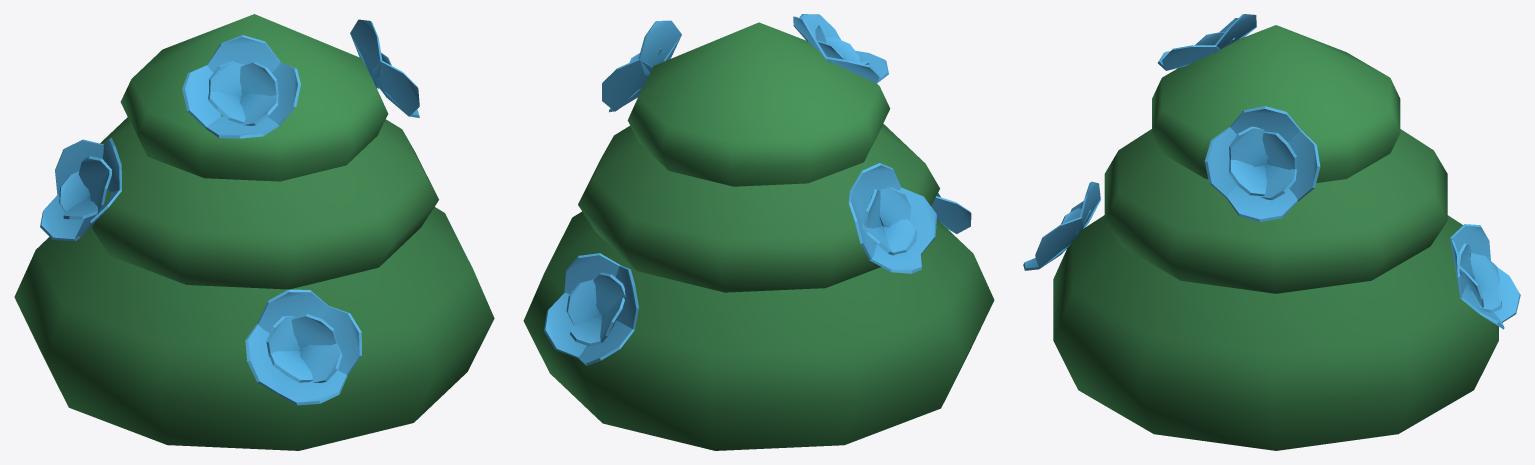
The model's file is bush_triangle_flowers.fbx.
The picture shows the model from 3 angles, left to right: view 1: azimuth 30°, elevation 25°; view 2: azimuth 150°, elevation 25°; view 3: azimuth 270°, elevation 25°; orthographic projection. The views are drawn at different scales.
Parts seen in each view (by area): view 1: bush_triangle_flowers; view 2: bush_triangle_flowers; view 3: bush_triangle_flowers.
Boxes of the visible parts, x1,y1,x2,y2 form: bush_triangle_flowers: [14, 14, 494, 450]; bush_triangle_flowers: [523, 14, 994, 450]; bush_triangle_flowers: [1023, 14, 1520, 450].
Size of the model in its own units: 2.38 by 1.89 by 2.52.
Materials: 1 (1 with a texture image).
